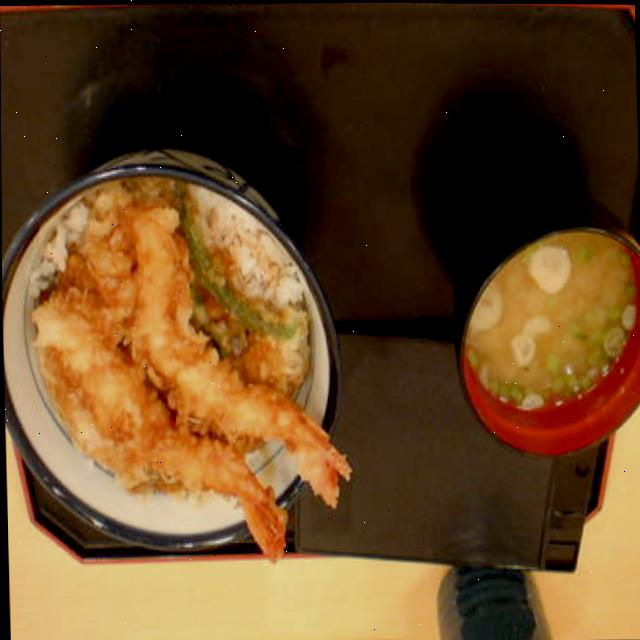汤锅炖物: (451, 177, 640, 447)
熟制海鲜: (1, 127, 356, 577)
